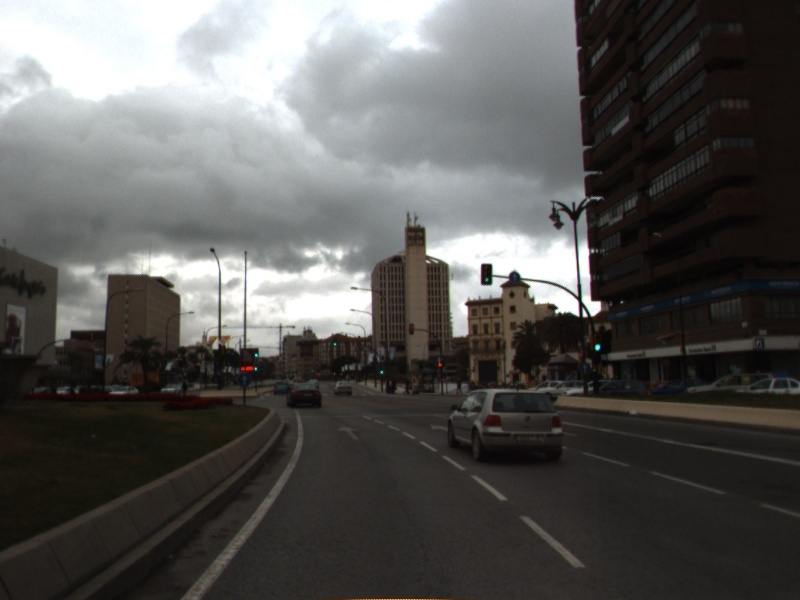STRAIGHT: (335, 423, 362, 442)
